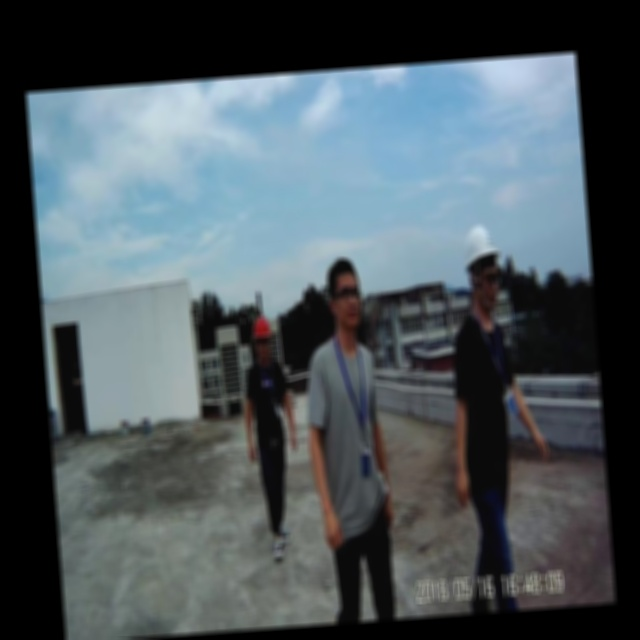Con_Casco: (461, 225, 503, 309)
Sin_Casco_Mascarrilla: (327, 256, 362, 328)
Sin_Chaleco: (310, 341, 386, 527)
